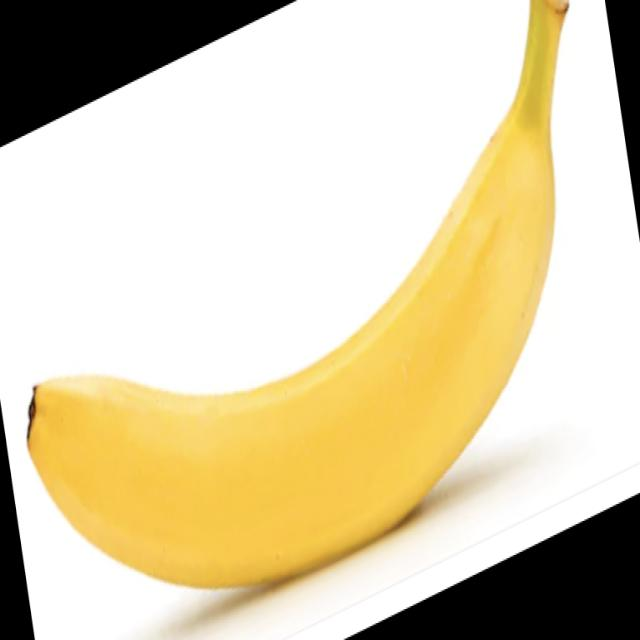god quality banana: (27, 1, 569, 587)
